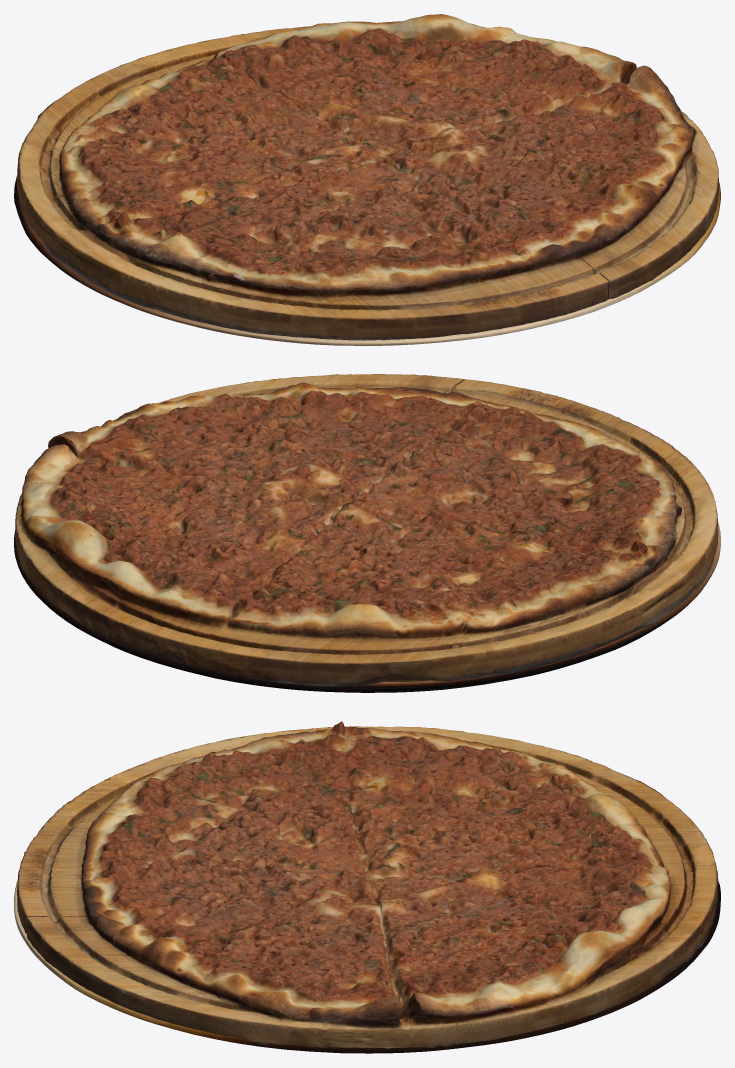
File: Armenian.lahmajoon.glb
3 views of the same model, one above another, from view 1: azimuth 30°, elevation 25°; view 2: azimuth 150°, elevation 25°; view 3: azimuth 270°, elevation 25° (orthographic).
Visible parts, largest first — view 1: /Root/Scenes/Scene/Object_37/Object_38/Submesh_0, /Root/Scenes/Scene/Object_37/Object_39/Object_40/Submesh_0; view 2: /Root/Scenes/Scene/Object_37/Object_38/Submesh_0, /Root/Scenes/Scene/Object_37/Object_39/Object_40/Submesh_0; view 3: /Root/Scenes/Scene/Object_37/Object_38/Submesh_0, /Root/Scenes/Scene/Object_37/Object_39/Object_40/Submesh_0.
Part boxes in pixels (x1=…): /Root/Scenes/Scene/Object_37/Object_38/Submesh_0: x1=16, y1=14, x2=718, y2=340; /Root/Scenes/Scene/Object_37/Object_39/Object_40/Submesh_0: x1=14, y1=175, x2=720, y2=345; /Root/Scenes/Scene/Object_37/Object_38/Submesh_0: x1=15, y1=374, x2=718, y2=686; /Root/Scenes/Scene/Object_37/Object_39/Object_40/Submesh_0: x1=14, y1=522, x2=720, y2=692; /Root/Scenes/Scene/Object_37/Object_38/Submesh_0: x1=17, y1=721, x2=718, y2=1048; /Root/Scenes/Scene/Object_37/Object_39/Object_40/Submesh_0: x1=14, y1=879, x2=720, y2=1053.
Bounding box in the file's own units: 0.249 × 0.0225 × 0.2488.
2 materials, 2 textured.
